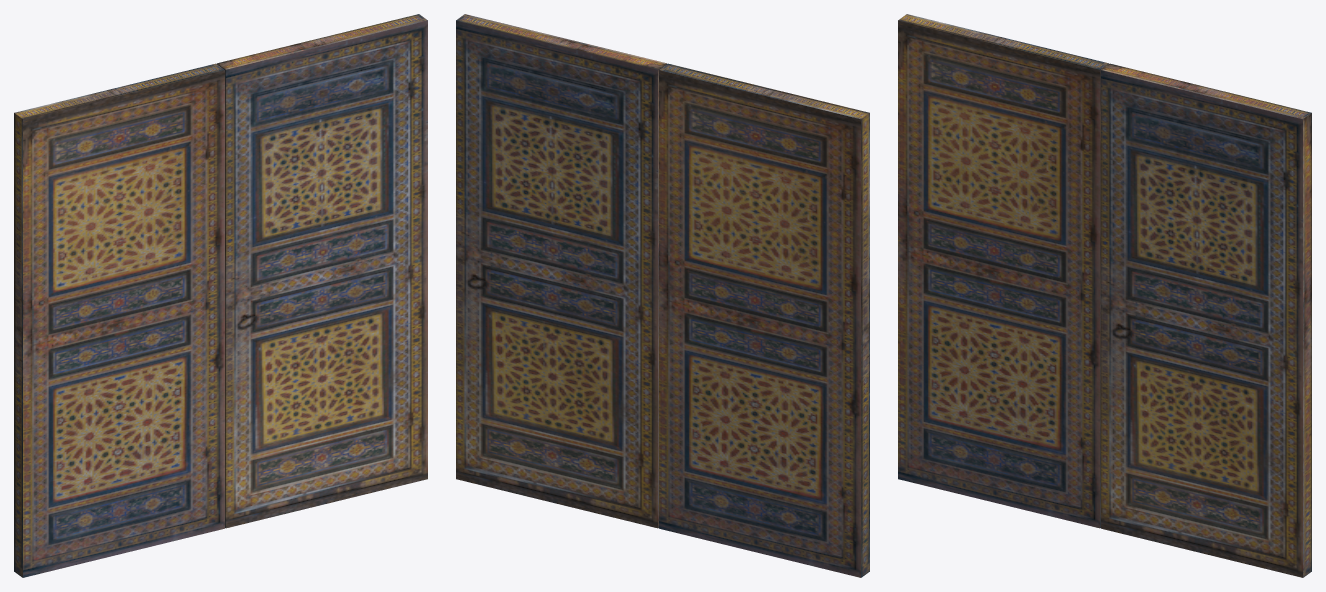
The model's file is doubledoor.glb.
The picture shows the model from 3 angles, left to right: view 1: azimuth 30°, elevation 25°; view 2: azimuth 150°, elevation 25°; view 3: azimuth 330°, elevation 25°; orthographic projection.
Parts seen in each view (by area): view 1: pyramid_door.002, pyramid_door.001; view 2: pyramid_door.002, pyramid_door.001; view 3: pyramid_door.001, pyramid_door.002.
Boxes of the visible parts, x1,y1,x2,y2 form: pyramid_door.002: (14,63,224,577); pyramid_door.001: (217,14,427,528); pyramid_door.002: (659,63,869,577); pyramid_door.001: (456,14,666,528); pyramid_door.001: (1101,63,1311,577); pyramid_door.002: (898,14,1108,528).
Size of the model in its own units: 103 by 111 by 3.91.
Materials: 1 (1 with a texture image).
